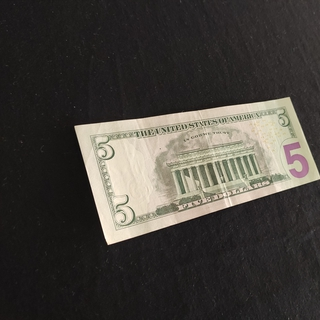5USDBack: (74, 96, 320, 245)
